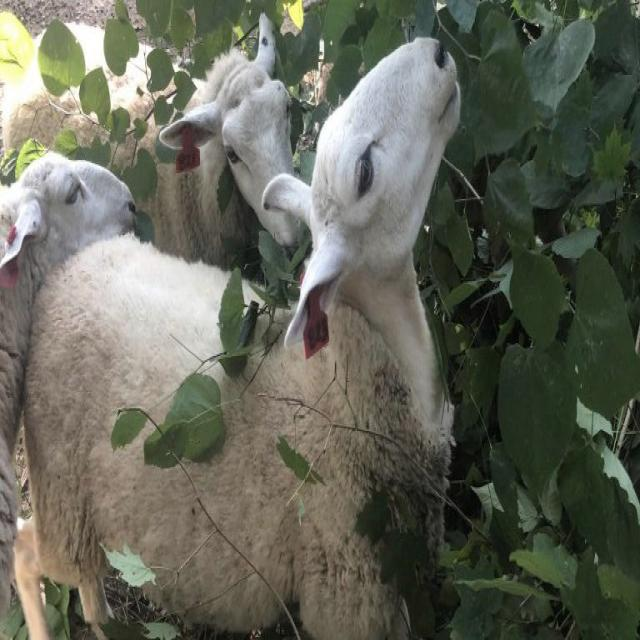sheep: (15, 37, 460, 639), (0, 153, 134, 611), (153, 14, 298, 267)
